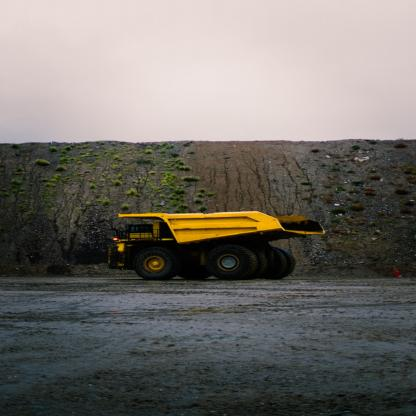dump_truck: (102, 204, 331, 284)
